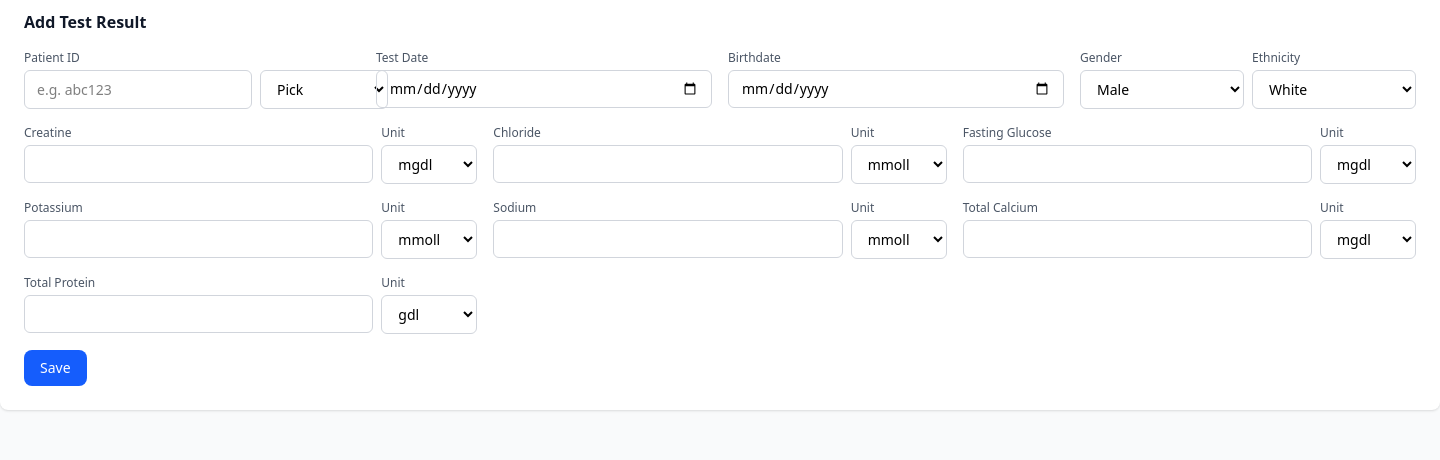
Scenario: AddDataForm › locks demographics when clientId matches an existing patient
The image size is (1440, 460).
Type "existing_123" into the field labelled "Patient ID".
click(138, 90); type("existing_123")  # box [24, 70, 252, 109]
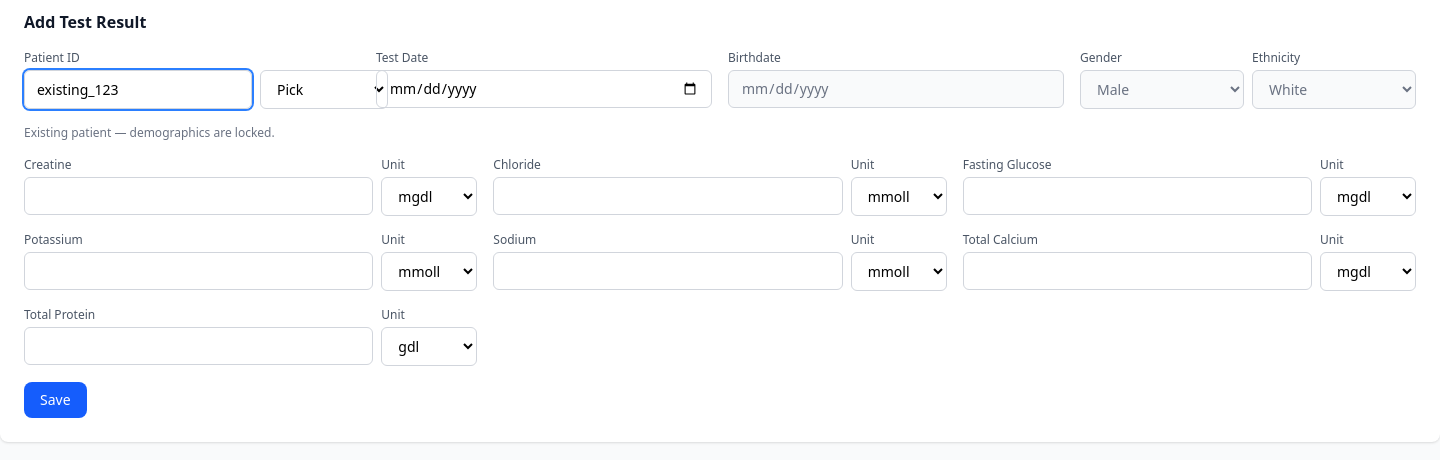
Expected: the date field labelled "Birthdate" is disabled, [728, 70, 1064, 108]
Expected: the dropdown labelled "Gender" is disabled, [1080, 70, 1244, 109]
Expected: the dropdown labelled "Ethnicity" is disabled, [1252, 70, 1416, 109]
